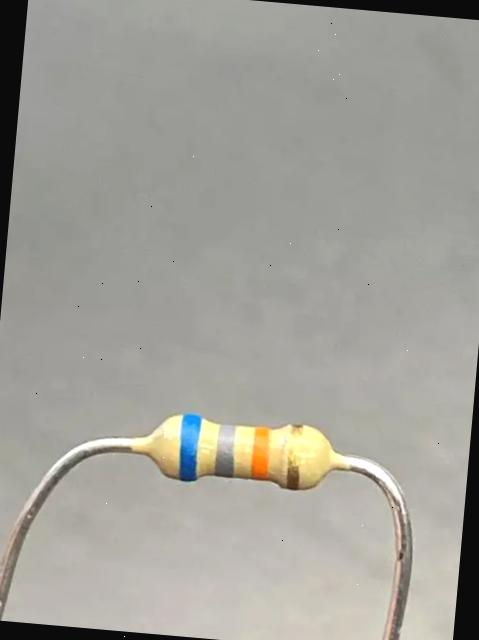blue: (179, 413, 201, 481)
gold: (285, 421, 303, 490)
grey: (214, 423, 235, 477)
orange: (250, 426, 269, 481)
resistor: (130, 394, 351, 513)
